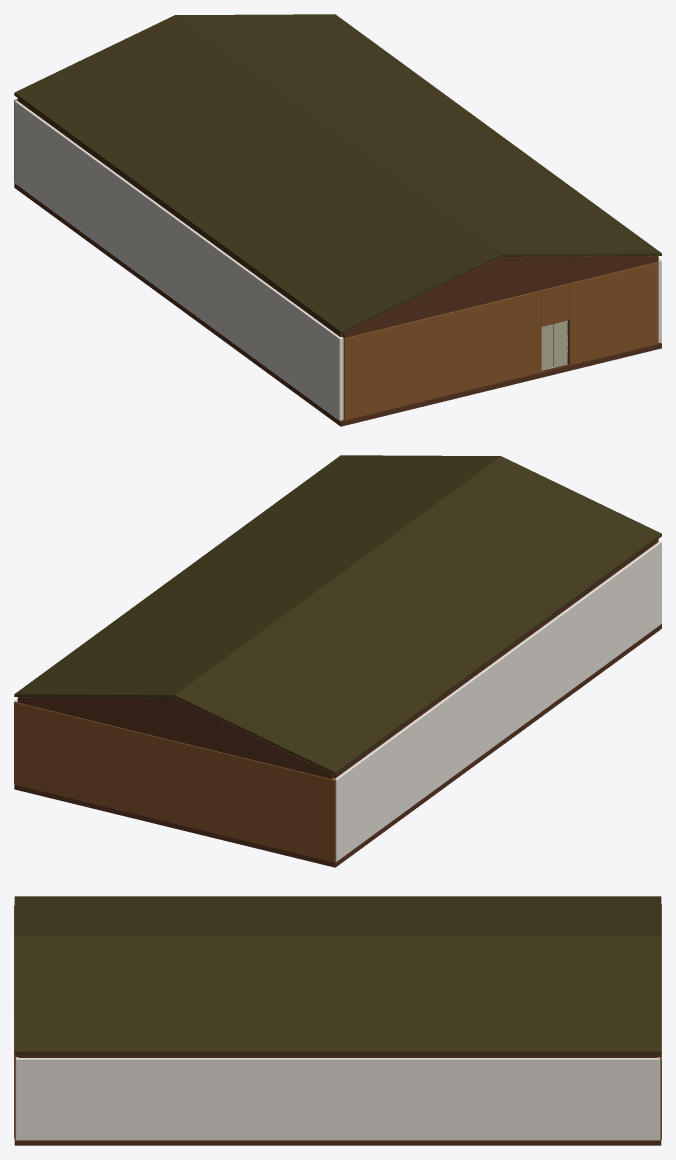
Rendered from retro_bowling_alley.glb.
3 views of the same model, one above another, from view 1: azimuth 30°, elevation 25°; view 2: azimuth 150°, elevation 25°; view 3: azimuth 270°, elevation 25° (orthographic).
Parts seen in each view (by area): view 1: Static_social_Deep olive roof deck_CEILING, Wall_West, Wall_Front_Left, Static_social_Leather_CEILING, Wall_Front_Right, Static_lanes_Leather_ARCHITECTURE, Static_lanes_Leather_CEILING, Static_social_WallOchre_ARCHITECTURE, DoorLeaf_3.5; view 2: Static_social_Deep olive roof deck_CEILING, Wall_West, Wall_Back, Static_social_Leather_CEILING, Static_lanes_Leather_ARCHITECTURE, Static_lanes_Leather_CEILING; view 3: Static_social_Deep olive roof deck_CEILING, Wall_East, Static_lanes_Leather_ARCHITECTURE, Static_lanes_Leather_CEILING.
Part boxes in pixels (x1,y1,x2,y2): Static_social_Deep olive roof deck_CEILING: (14,14,661,334); Wall_West: (14,100,343,420); Wall_Front_Left: (342,290,541,420); Static_social_Leather_CEILING: (17,98,658,338); Wall_Front_Right: (567,262,658,365); Static_lanes_Leather_ARCHITECTURE: (14,183,661,426); Static_lanes_Leather_CEILING: (18,98,342,336); Static_social_WallOchre_ARCHITECTURE: (541,283,569,326); DoorLeaf_3.5: (553,320,567,367); Static_social_Deep olive roof deck_CEILING: (14,455,661,775); Wall_West: (334,541,661,861); Wall_Back: (14,701,336,862); Static_social_Leather_CEILING: (17,539,658,779); Static_lanes_Leather_ARCHITECTURE: (14,624,661,867); Static_lanes_Leather_CEILING: (333,539,658,777); Static_social_Deep olive roof deck_CEILING: (14,896,661,1054); Wall_East: (15,1057,660,1140); Static_lanes_Leather_ARCHITECTURE: (14,1138,661,1145); Static_lanes_Leather_CEILING: (18,1054,657,1057).
Size of the model in its own units: 18.48 by 7.31 by 32.48.
